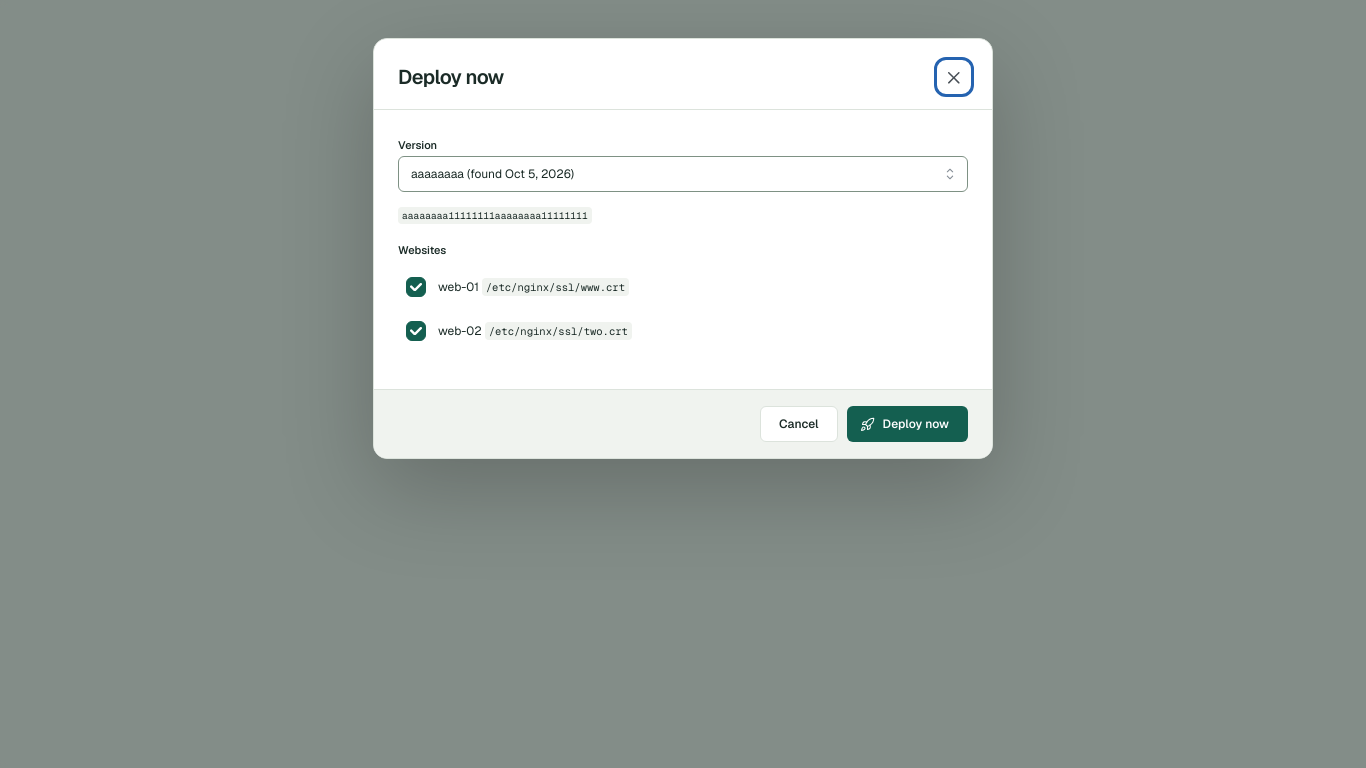
Test: KVDeployDialog › defaults to the current version and all the websites, and posts version_id and location_ids
This screenshot has width=1366, height=768.
Expected: the dropdown labelled "Version" shows "aaaaaaaa (found Oct 5, 2026)", [398,156,968,192]
Click the button "Deploy now": point(907, 424) [846,406,968,442]
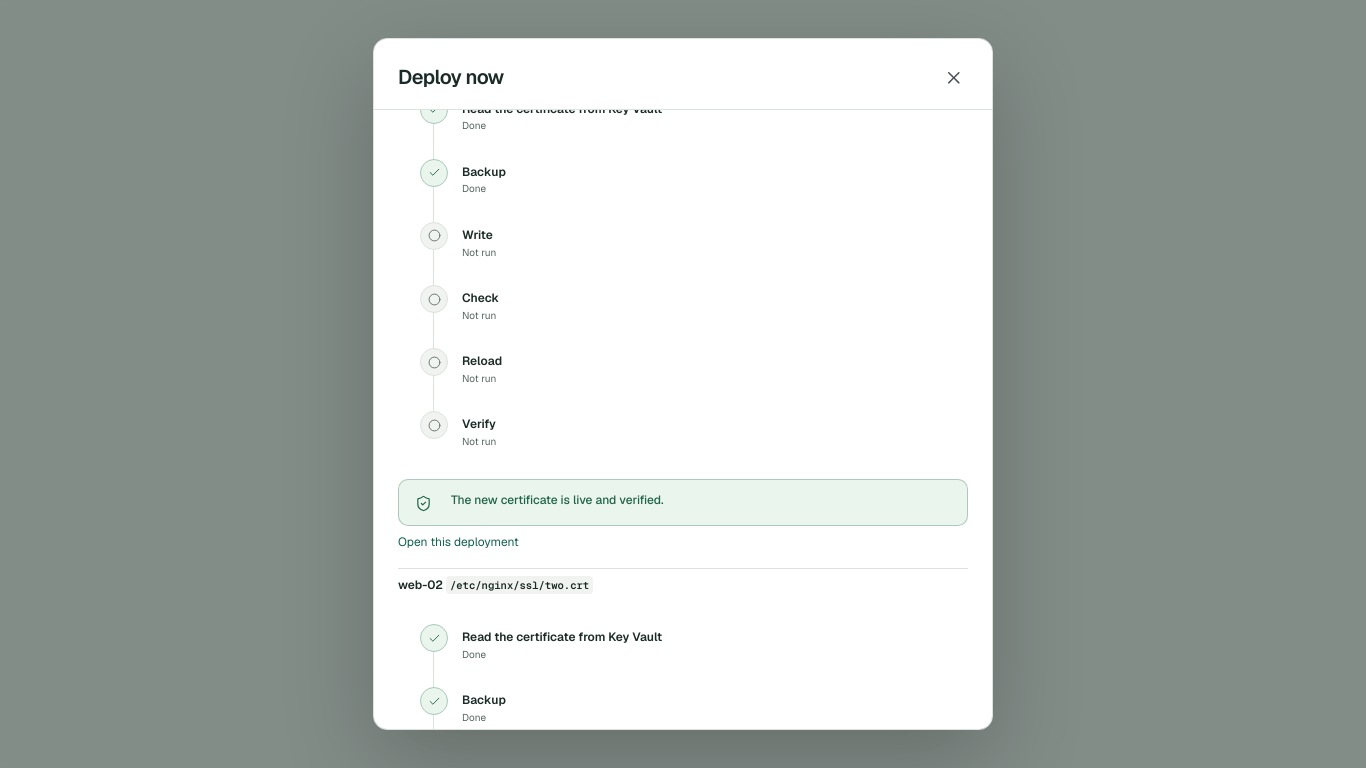
Expected: the number of elements with test id "deployment-run" is 2
Expected: the text "Read the certificate from Key Vault" below "web-01" is shown, [462,101,662,117]
